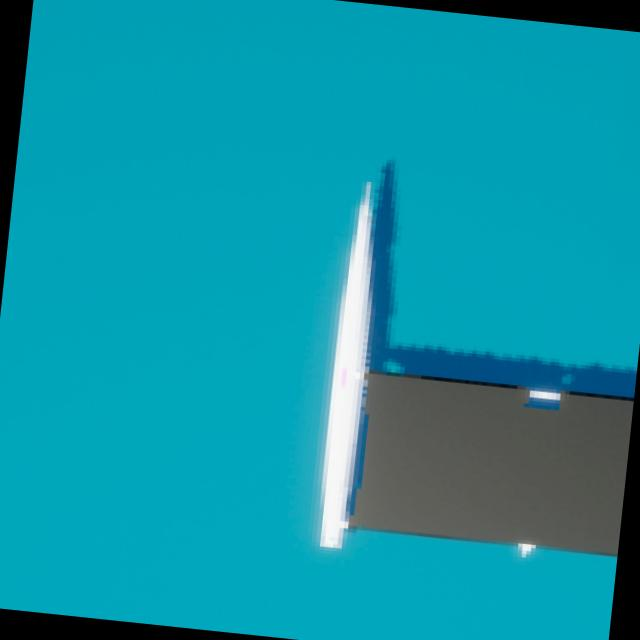boat: (295, 167, 640, 590)
drone: (346, 372, 634, 554)
